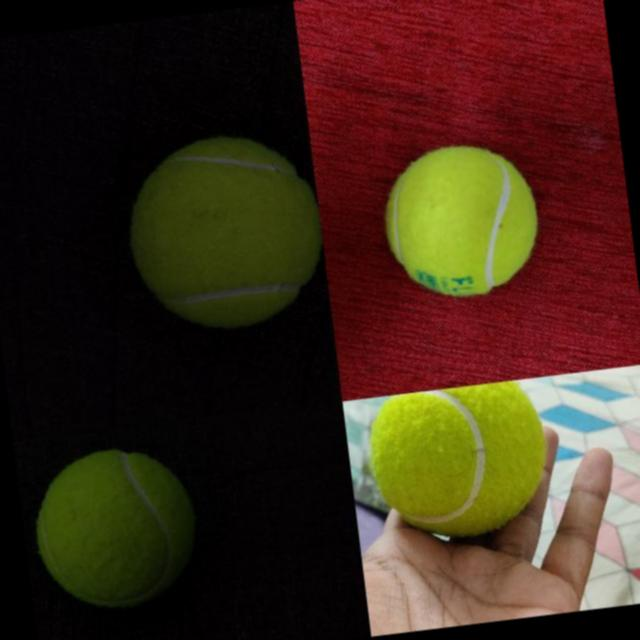tennis-ball: (117, 124, 330, 338), (360, 376, 557, 548), (26, 440, 205, 616), (376, 138, 544, 304)
